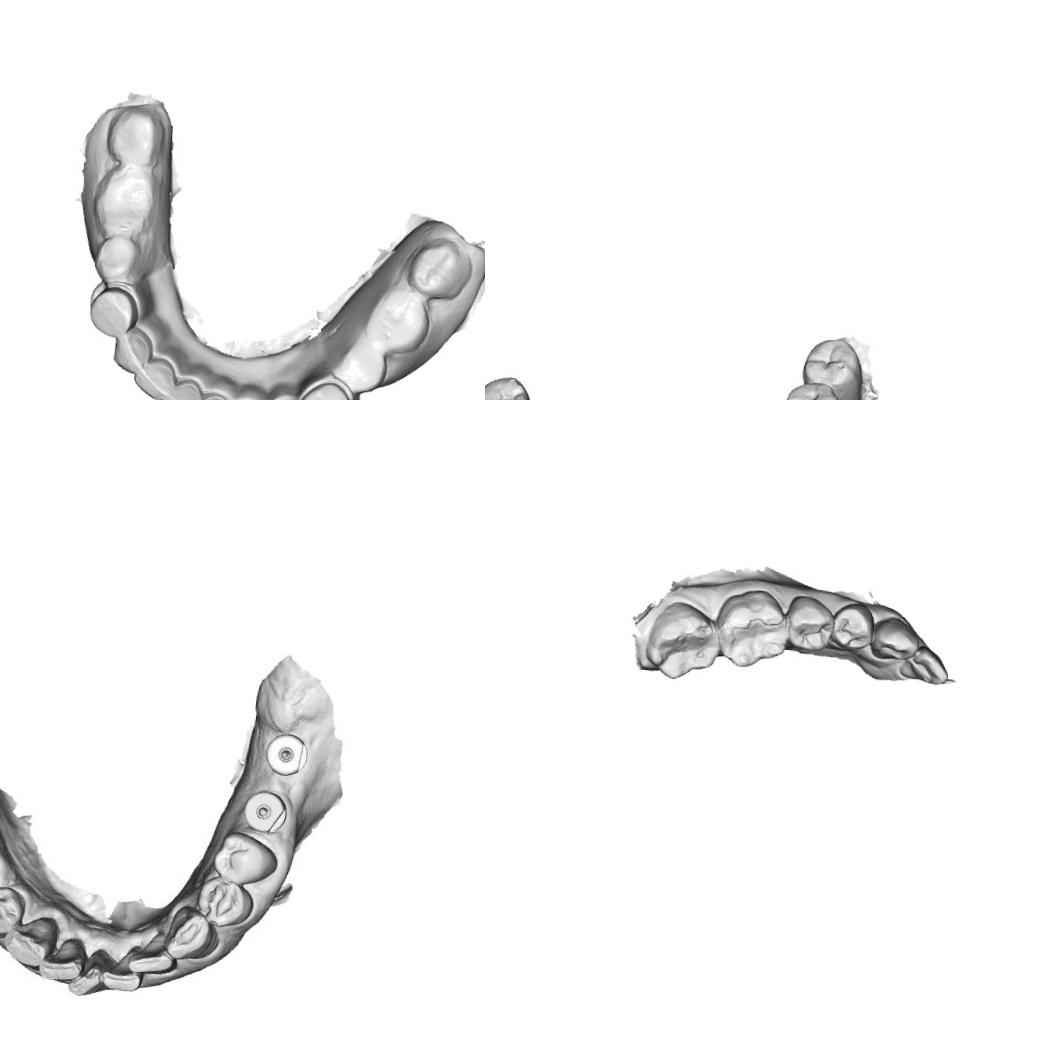canine: (1, 911, 59, 968), (168, 911, 222, 965), (870, 614, 922, 664)
implant: (239, 789, 292, 840), (262, 730, 308, 784)
incisor: (896, 640, 950, 686), (41, 939, 85, 984), (71, 952, 111, 998), (132, 938, 176, 976), (104, 951, 142, 994)
molar: (642, 597, 722, 683), (712, 584, 790, 670), (800, 335, 862, 400), (776, 378, 846, 400), (485, 372, 532, 400)
premolar: (783, 592, 835, 654), (216, 831, 274, 884), (828, 597, 876, 654), (196, 879, 250, 929), (0, 888, 25, 932)
